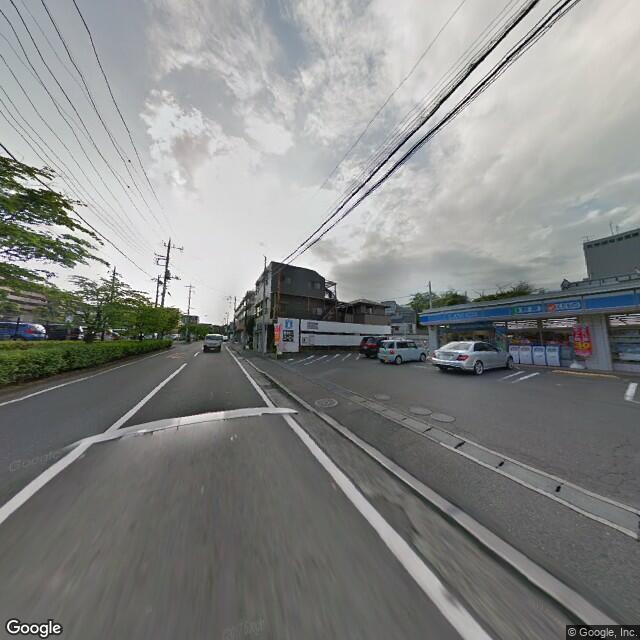lawson: (420, 282, 639, 327), (282, 316, 296, 331)
